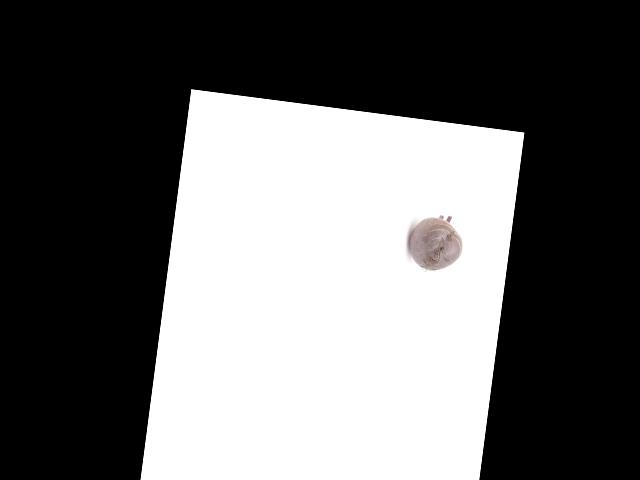beet: (404, 212, 466, 274)
